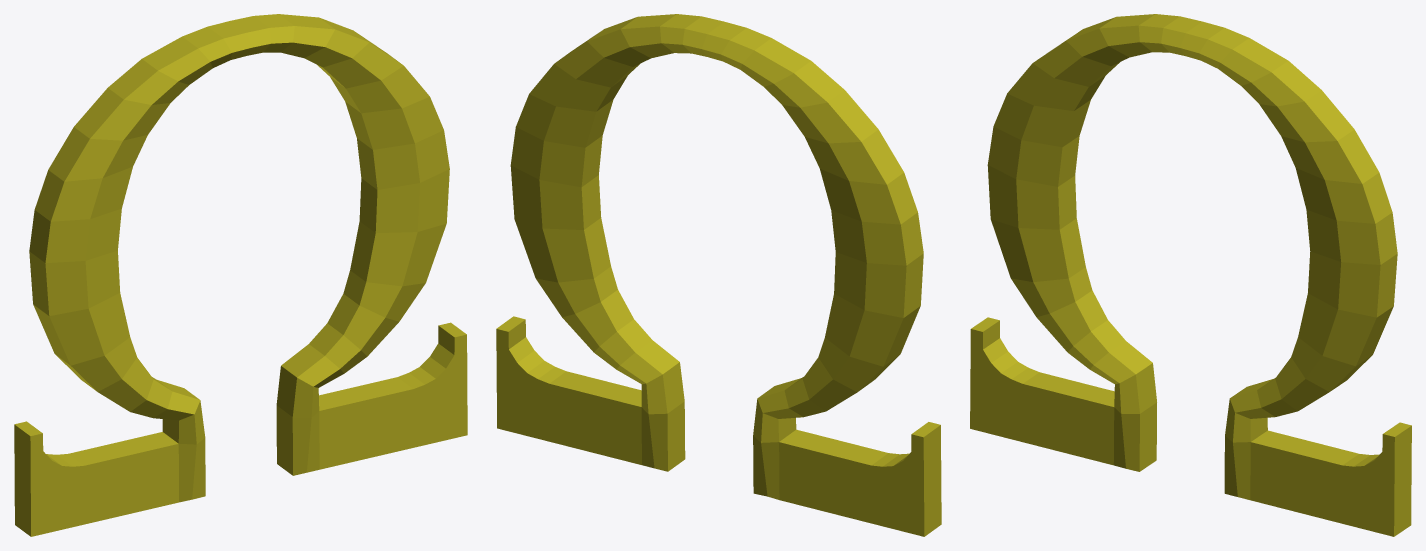
File: omega7.fbx
3 renders of one model, left to right at view 1: azimuth 30°, elevation 25°; view 2: azimuth 150°, elevation 25°; view 3: azimuth 330°, elevation 25°, orthographic.
Visible parts, largest first — view 1: Cube_Untitled; view 2: Cube_Untitled; view 3: Cube_Untitled.
Boxes of the visible parts, x1,y1,x2,y2 form: Cube_Untitled: (14, 14, 467, 536); Cube_Untitled: (496, 14, 941, 536); Cube_Untitled: (970, 14, 1411, 536).
Bounding box in the file's own units: 13.63 × 13.59 × 1.74.
